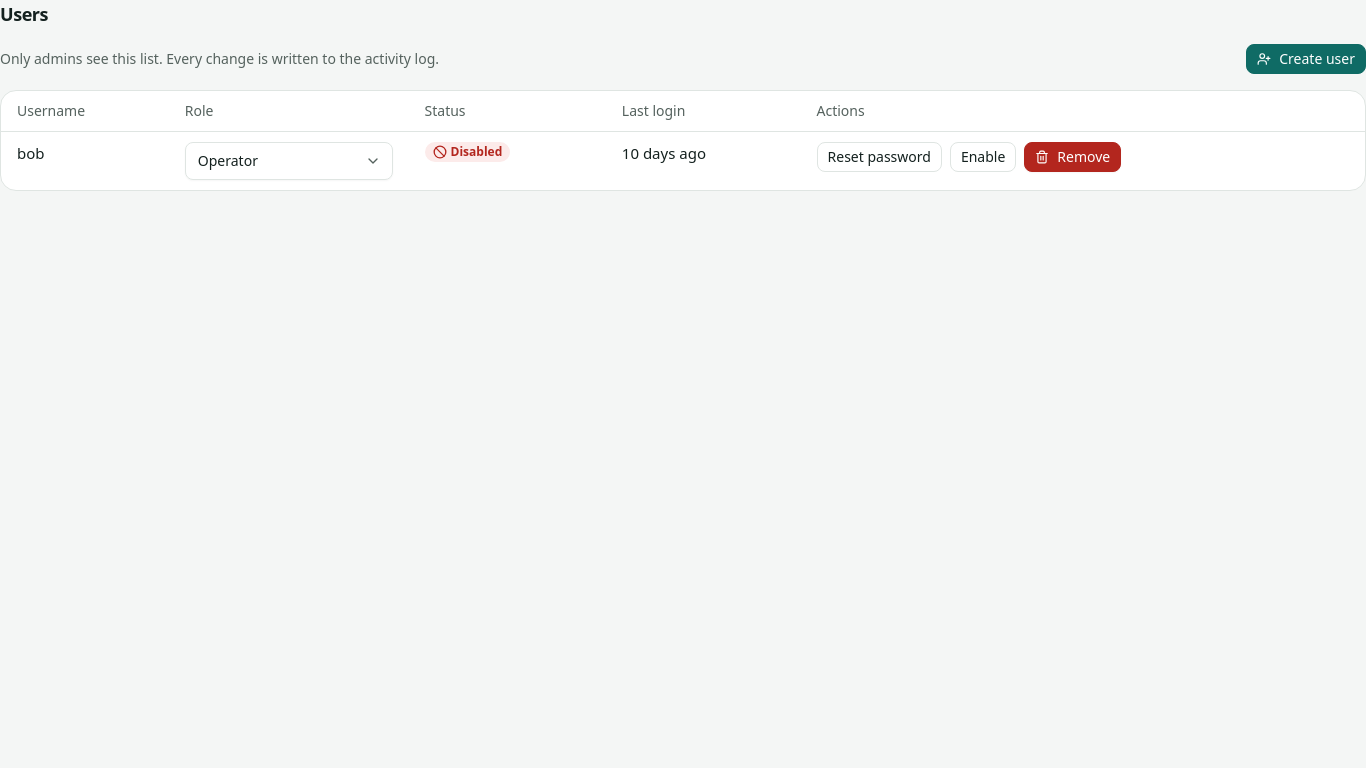
Test: UsersAdmin actions › asks before enabling a disabled user
This screenshot has width=1366, height=768.
Check: the table named "Users" is shown, box [1,91,1365,190]
Click the button "Enable" at (983, 157), box [950,142,1016,172]
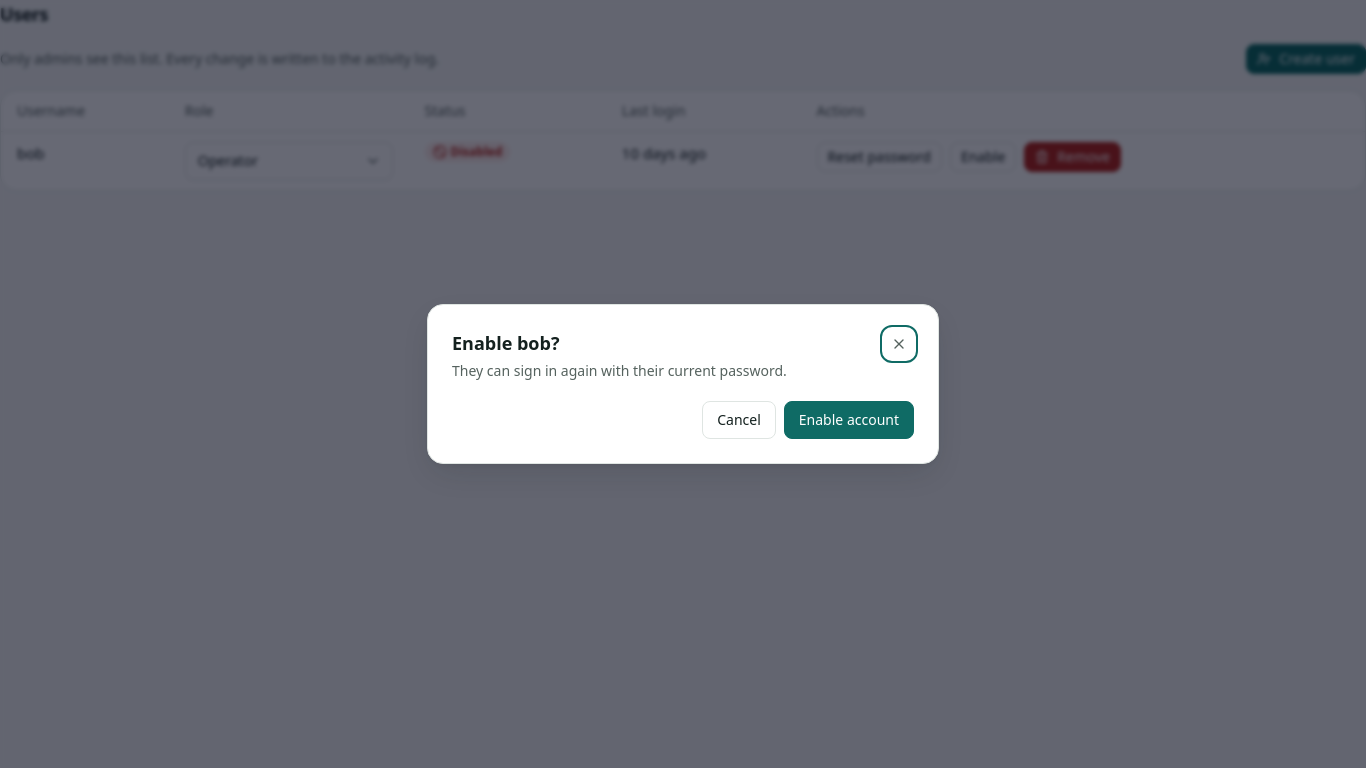
Click the button "Enable account" at (849, 420), box [784,401,914,439]
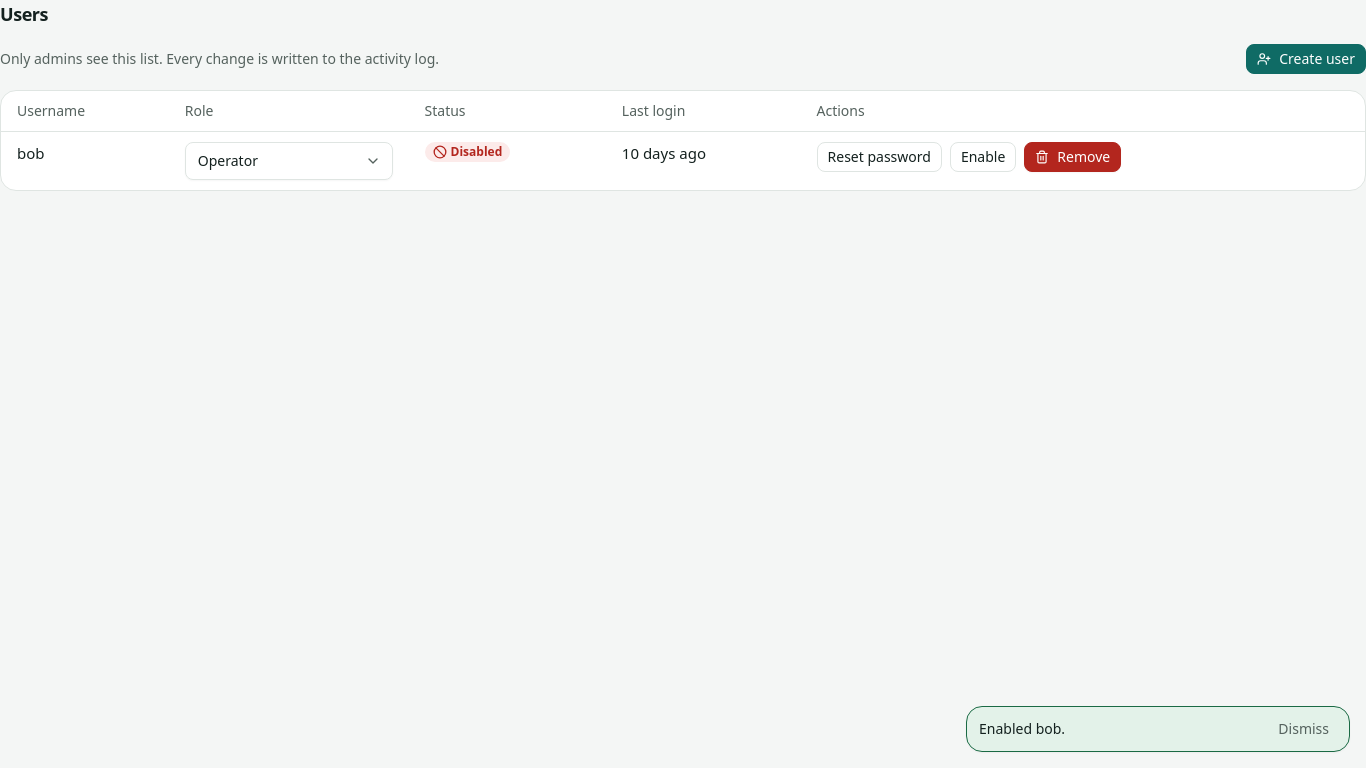
Check: the text "Enabled bob." is shown, box [979,719,1065,739]
